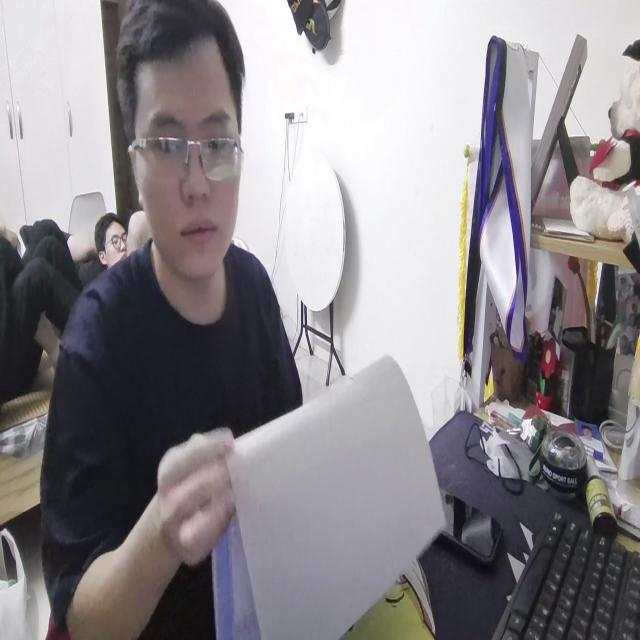book: (204, 337, 446, 640)
extra_person: (89, 207, 139, 266)
phone: (428, 484, 503, 582)
student: (38, 0, 308, 640)
